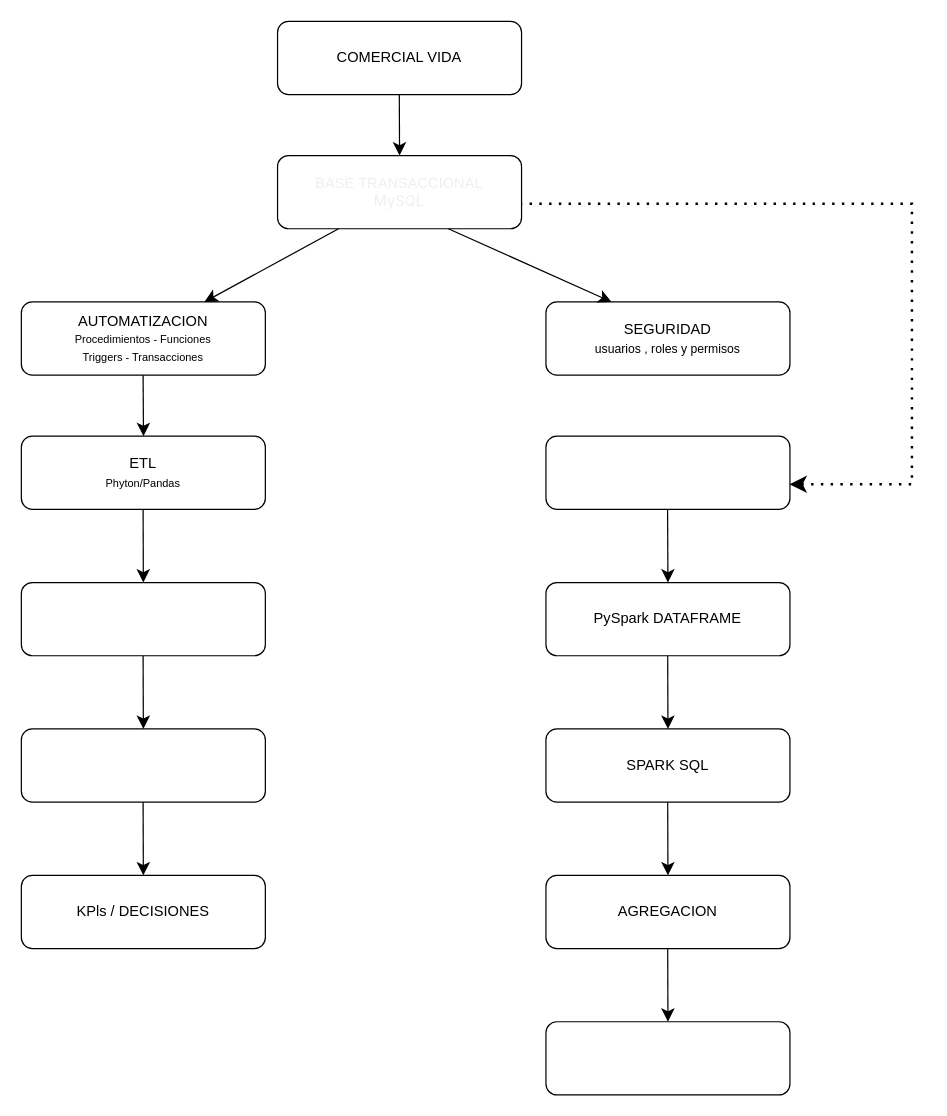
Some shapes in this 947 by 1116 pixel diagram are drawn without their labels. Each missing label, with the centre of its shape:
"COMPARACION" belongs at (667,1058).
"DASHBOARD power Bi" belongs at (142,765).
"DATA WEREHOUSE" belongs at (142,618).
"VENTAS.CSV" belongs at (667,472).
